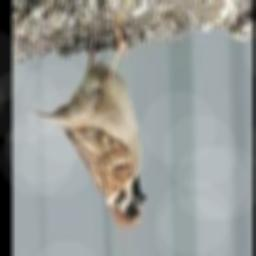Sparrow: (33, 26, 148, 228)
